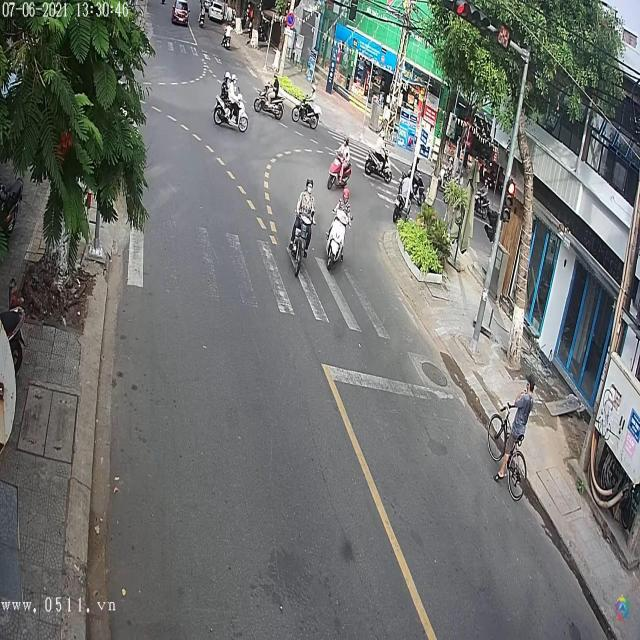car: (171, 1, 188, 26)
motorcycle: (288, 197, 316, 280), (325, 202, 353, 274), (212, 79, 247, 131), (253, 79, 284, 120), (363, 146, 393, 182), (291, 102, 320, 130)
